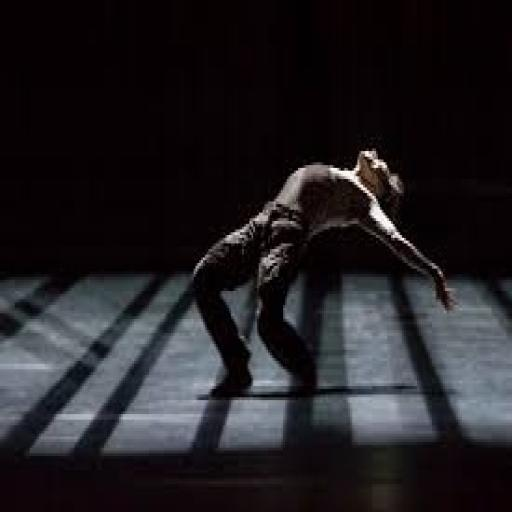dancing: (188, 143, 458, 403)
